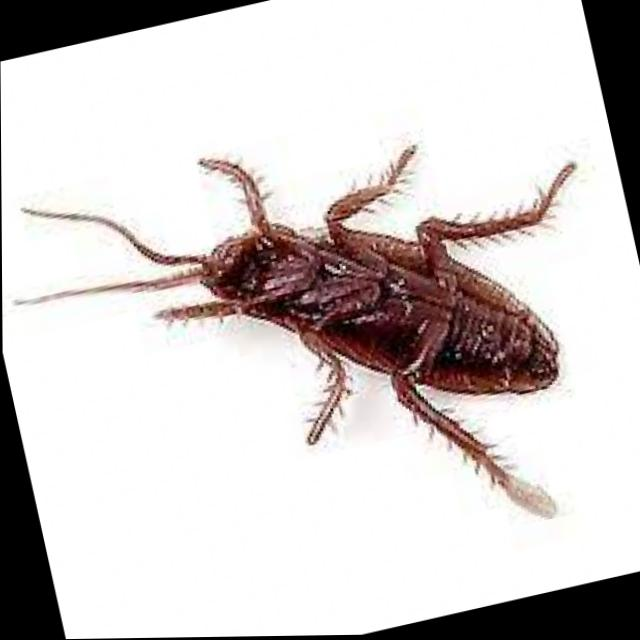Cockroach: (0, 61, 640, 528)
